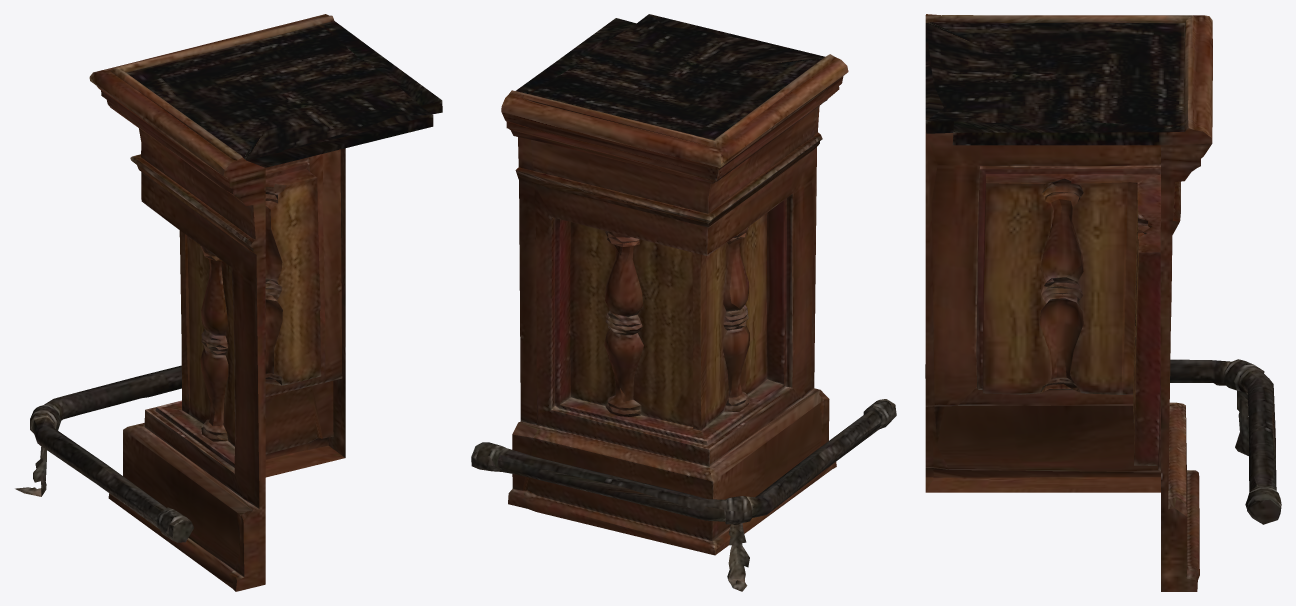
The model's file is bar-counter-corner.lod1.glb.
The picture shows the model from 3 angles, left to right: view 1: azimuth 30°, elevation 25°; view 2: azimuth 150°, elevation 25°; view 3: azimuth 270°, elevation 25°; orthographic projection. The views are drawn at different scales.
Visible parts, largest first — view 1: bar-counter-corner; view 2: bar-counter-corner; view 3: bar-counter-corner.
Boxes of the visible parts, x1=… form: bar-counter-corner: x1=15, y1=14, x2=442, y2=591; bar-counter-corner: x1=471, y1=14, x2=896, y2=591; bar-counter-corner: x1=925, y1=14, x2=1281, y2=591.
Size of the model in its own units: 0.7331 by 1.06 by 0.7376.
Materials: 1 (1 with a texture image).
